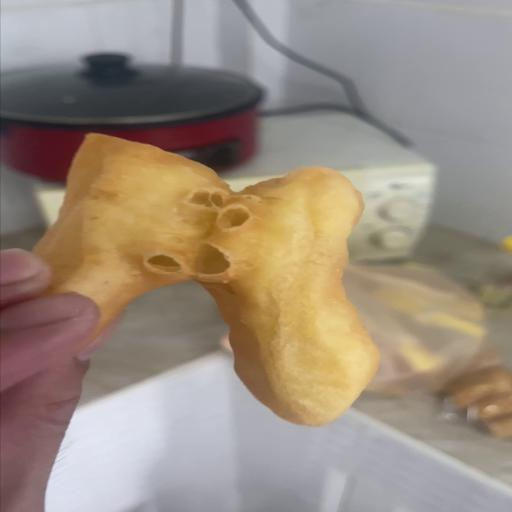street_golden_defect: (35, 135, 379, 429)
